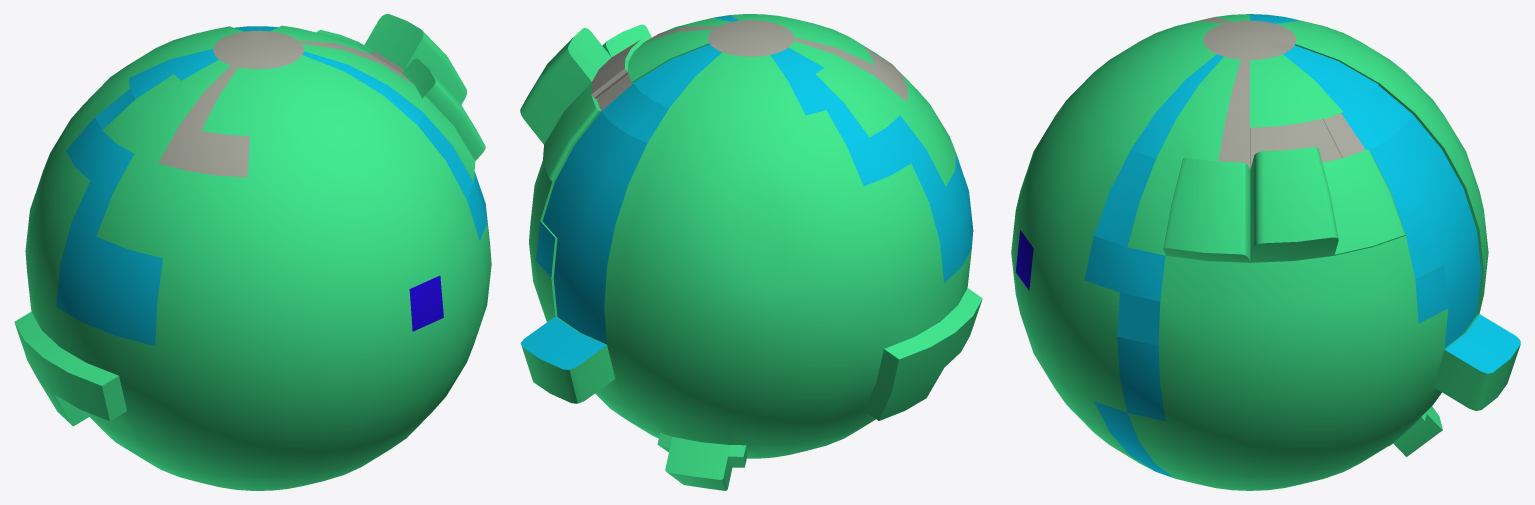
Rendered from planeetta_pohja_pienempismooth.fbx.
3 renders of one model, left to right at view 1: azimuth 30°, elevation 25°; view 2: azimuth 150°, elevation 25°; view 3: azimuth 270°, elevation 25°, orthographic. The views are drawn at different scales.
Parts seen in each view (by area): view 1: planeetta main; view 2: planeetta main; view 3: planeetta main.
Part boxes in pixels (box(x1,y1,x2,y2)): planeetta main: box(14, 14, 491, 490); planeetta main: box(520, 14, 982, 490); planeetta main: box(1011, 14, 1520, 490).
Size of the model in its own units: 10587 by 10032 by 10674.
